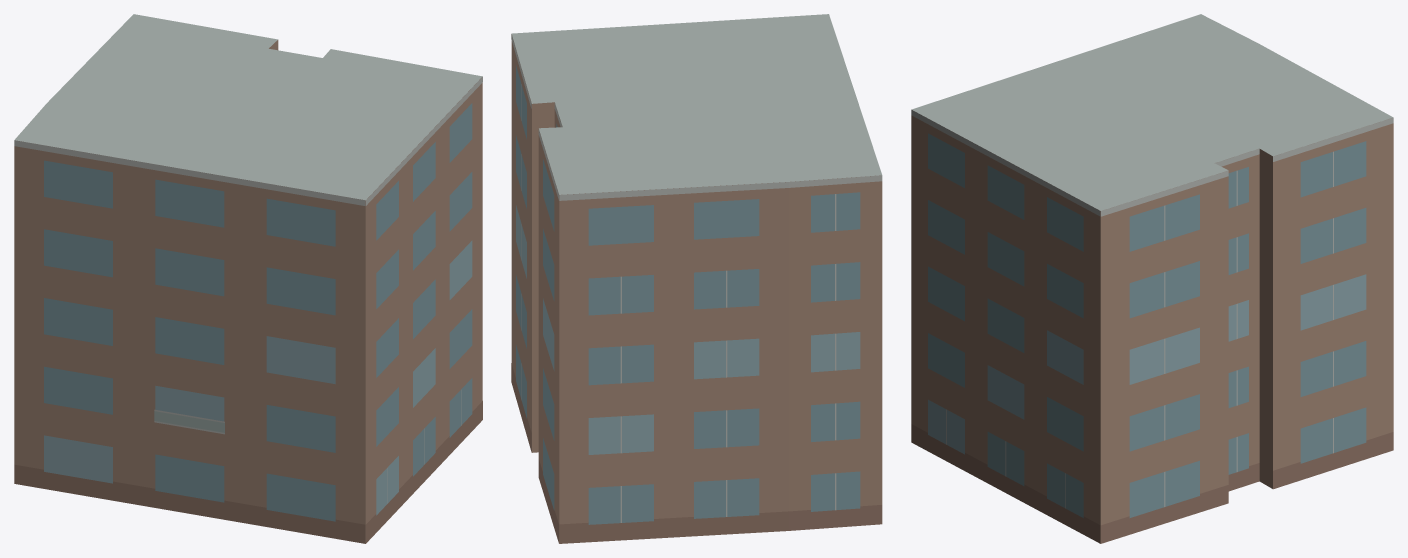
File: survey-upis-32989383.glb
3 views of the same model, side by side, from view 1: azimuth 30°, elevation 25°; view 2: azimuth 150°, elevation 25°; view 3: azimuth 270°, elevation 25° (orthographic). The views are drawn at different scales.
Visible parts, largest first — view 1: survey-upis-32989383.tmp; view 2: survey-upis-32989383.tmp; view 3: survey-upis-32989383.tmp.
Boxes of the visible parts, x1,y1,x2,y2 form: survey-upis-32989383.tmp: (14,14,482,543); survey-upis-32989383.tmp: (511,14,882,543); survey-upis-32989383.tmp: (911,14,1393,543).
Bounding box in the file's own units: 17.91 × 14.1 × 18.52.
